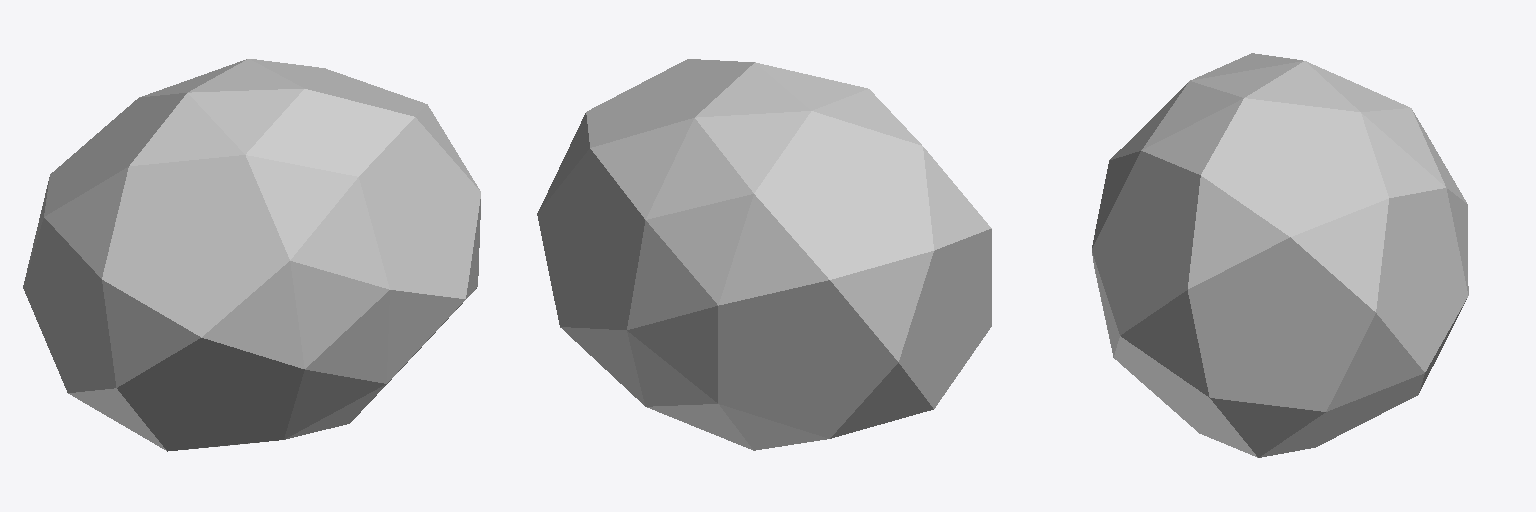
The model's file is GyroElongatedPentagonalBiRotunda.obj.
3 views of the same model, side by side, from view 1: azimuth 30°, elevation 25°; view 2: azimuth 150°, elevation 25°; view 3: azimuth 270°, elevation 25° (orthographic).
Parts seen in each view (by area): view 1: GyroElongatedPentagonalBiRotunda; view 2: GyroElongatedPentagonalBiRotunda; view 3: GyroElongatedPentagonalBiRotunda.
Boxes of the visible parts, x1=… form: GyroElongatedPentagonalBiRotunda: x1=23, y1=59, x2=480, y2=451; GyroElongatedPentagonalBiRotunda: x1=537, y1=59, x2=991, y2=450; GyroElongatedPentagonalBiRotunda: x1=1092, y1=53, x2=1468, y2=457.
Bounding box in the file's own units: 2.79 × 2.44 × 2.41.